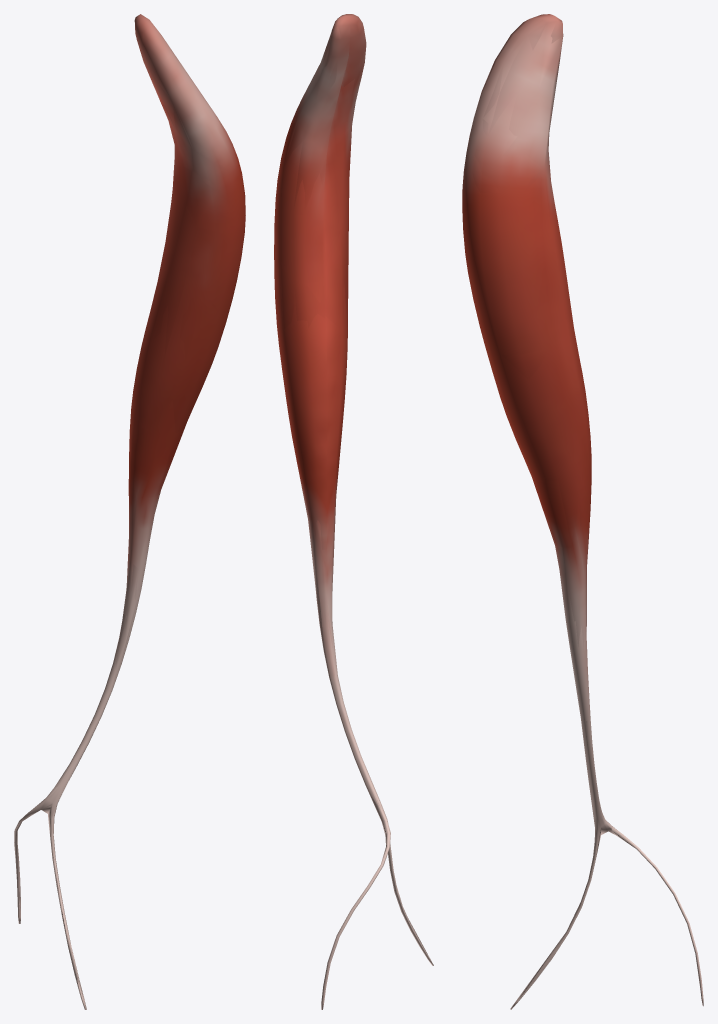
The model's file is L Deep Digital Flexor.fbx.
3 renders of one model, left to right at view 1: azimuth 30°, elevation 25°; view 2: azimuth 150°, elevation 25°; view 3: azimuth 270°, elevation 25°, orthographic. The views are drawn at different scales.
Parts seen in each view (by area): view 1: L Deep Digital Flexor, L Deep Digital Flexor low; view 2: L Deep Digital Flexor, L Deep Digital Flexor low; view 3: L Deep Digital Flexor, L Deep Digital Flexor low.
Boxes of the visible parts, left/top/right/bottom form: L Deep Digital Flexor: left=14, top=14, right=245, bottom=1009; L Deep Digital Flexor low: left=19, top=22, right=245, bottom=1009; L Deep Digital Flexor: left=274, top=14, right=433, bottom=1009; L Deep Digital Flexor low: left=274, top=17, right=427, bottom=954; L Deep Digital Flexor: left=462, top=14, right=703, bottom=1009; L Deep Digital Flexor low: left=467, top=20, right=700, bottom=1005.
Size of the model in its own units: 3.7 by 21.24 by 4.5.
